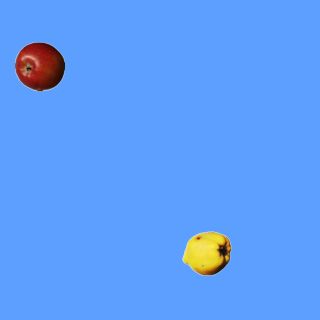Apple Braeburn: (14, 41, 64, 91)
Quince: (181, 228, 231, 278)
